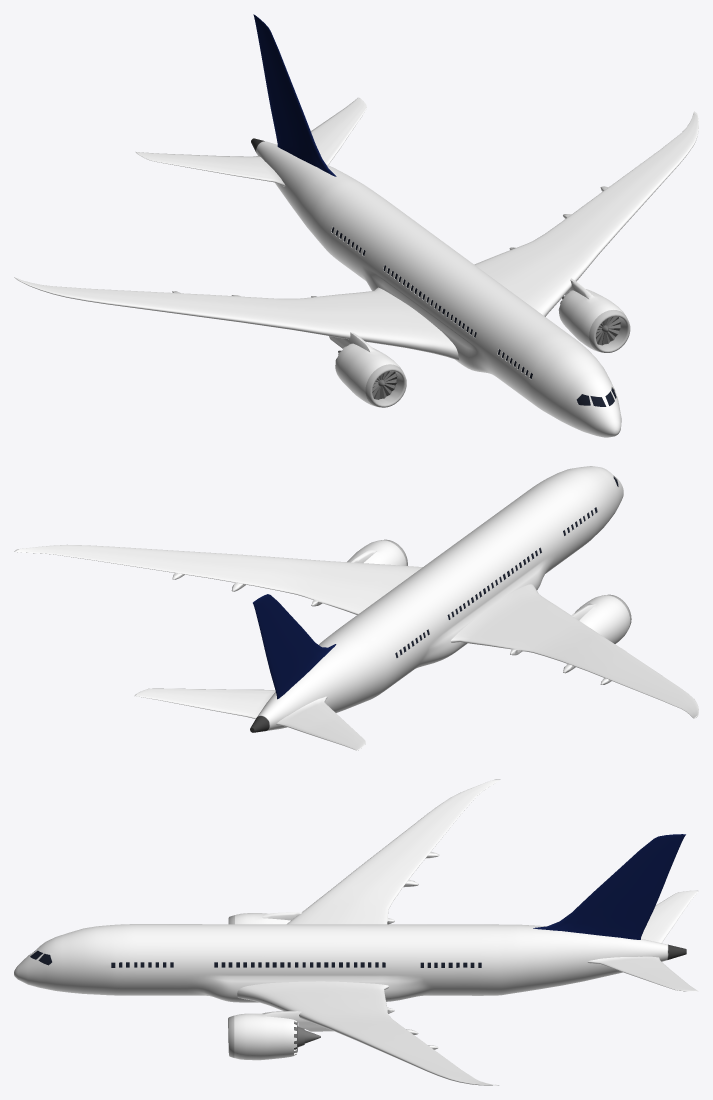
The model's file is boeing_787.glb.
3 renders of one model, top to bottom at view 1: azimuth 30°, elevation 25°; view 2: azimuth 150°, elevation 25°; view 3: azimuth 270°, elevation 25°, orthographic. The views are drawn at different scales.
Parts seen in each view (by area): view 1: object 1, object 3, Silniki 3, Statecznik pionowy 3, Statecznik poziomy 3; view 2: object 1, object 3, Statecznik poziomy 3, Statecznik pionowy 3, Silniki 3; view 3: object 1, object 3, Statecznik pionowy 3, Silniki 3, Statecznik poziomy 3.
Boxes of the visible parts, x1,y1,x2,y2 form: object 1: (251,138,621,437); object 3: (14,111,698,360); Silniki 3: (329,278,630,407); Statecznik pionowy 3: (253,14,336,176); Statecznik poziomy 3: (135,97,366,186); object 1: (250,466,623,732); object 3: (14,544,698,718); Statecznik poziomy 3: (134,688,365,750); Statecznik pionowy 3: (253,594,336,699); Silniki 3: (347,539,631,643); object 1: (14,924,686,1002); object 3: (237,779,500,1085); Statecznik pionowy 3: (533,834,685,939); Silniki 3: (228,912,333,1060); Statecznik poziomy 3: (587,890,698,991).
Size of the model in its own units: 2.42 by 0.6417 by 2.29.
4 materials, 2 textured.
